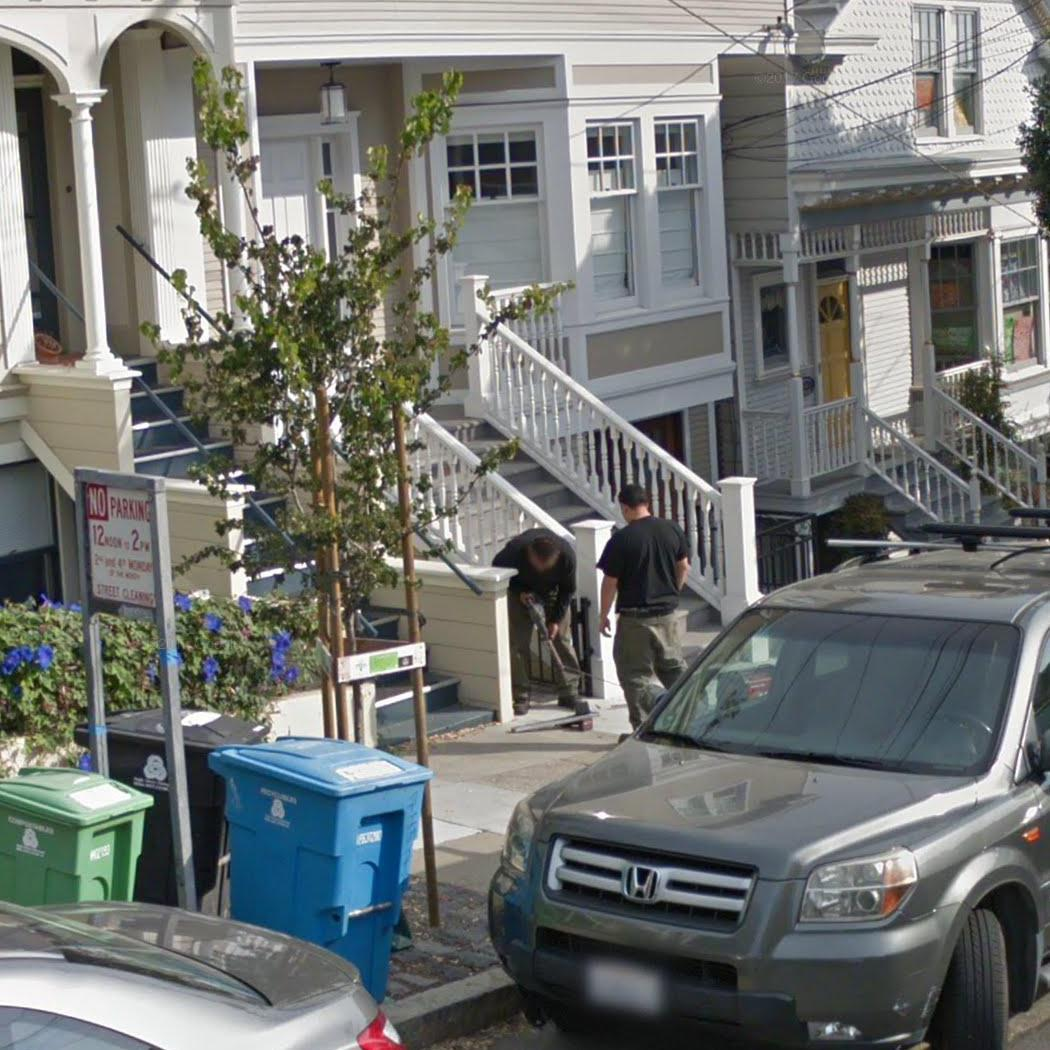No Parking: (77, 476, 163, 619)
